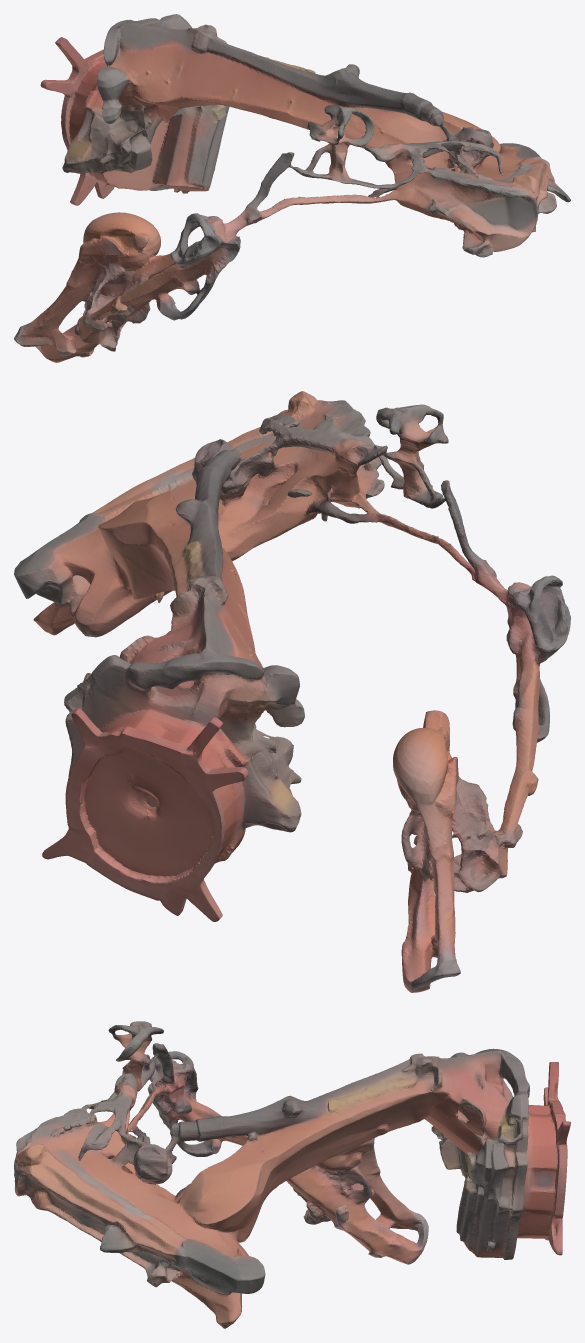
The model's file is entity-robot.glb.
3 views of the same model, one above another, from view 1: azimuth 30°, elevation 25°; view 2: azimuth 150°, elevation 25°; view 3: azimuth 270°, elevation 25° (orthographic). The views are drawn at different scales.
Parts seen in each view (by area): view 1: geometry_0; view 2: geometry_0; view 3: geometry_0.
Part boxes in pixels (box(x1,y1,x2,y2)): geometry_0: box(14, 14, 570, 362); geometry_0: box(14, 391, 570, 992); geometry_0: box(14, 1021, 570, 1328).
Bounding box in the file's own units: 3.43 × 2.4 × 3.93.
